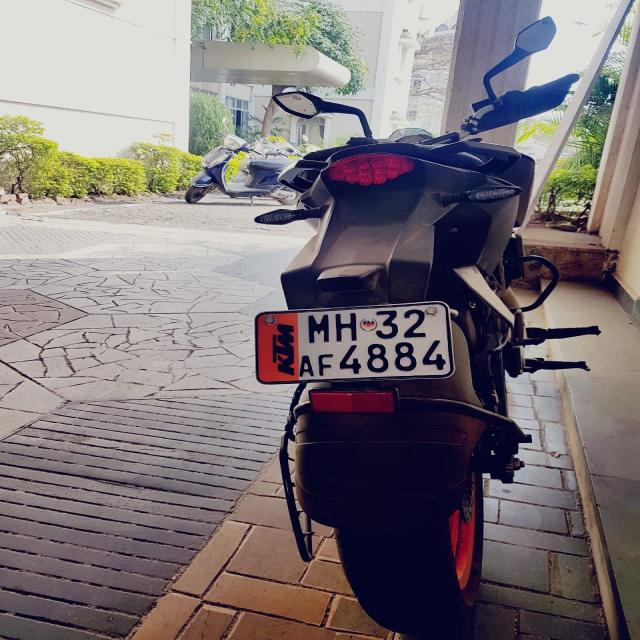number plate: (254, 300, 456, 384)
